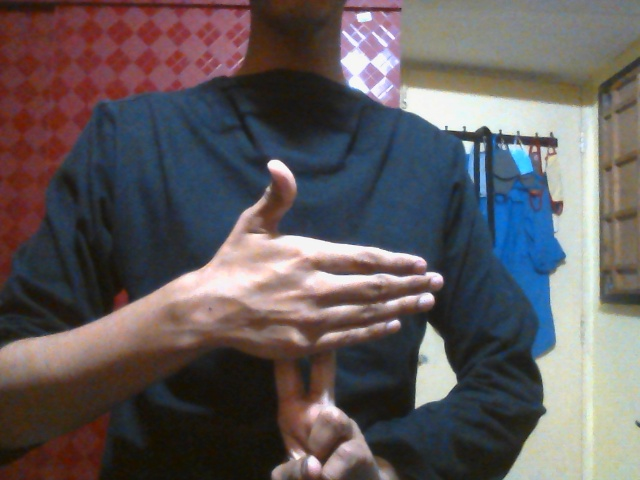N: (214, 159, 446, 480)
